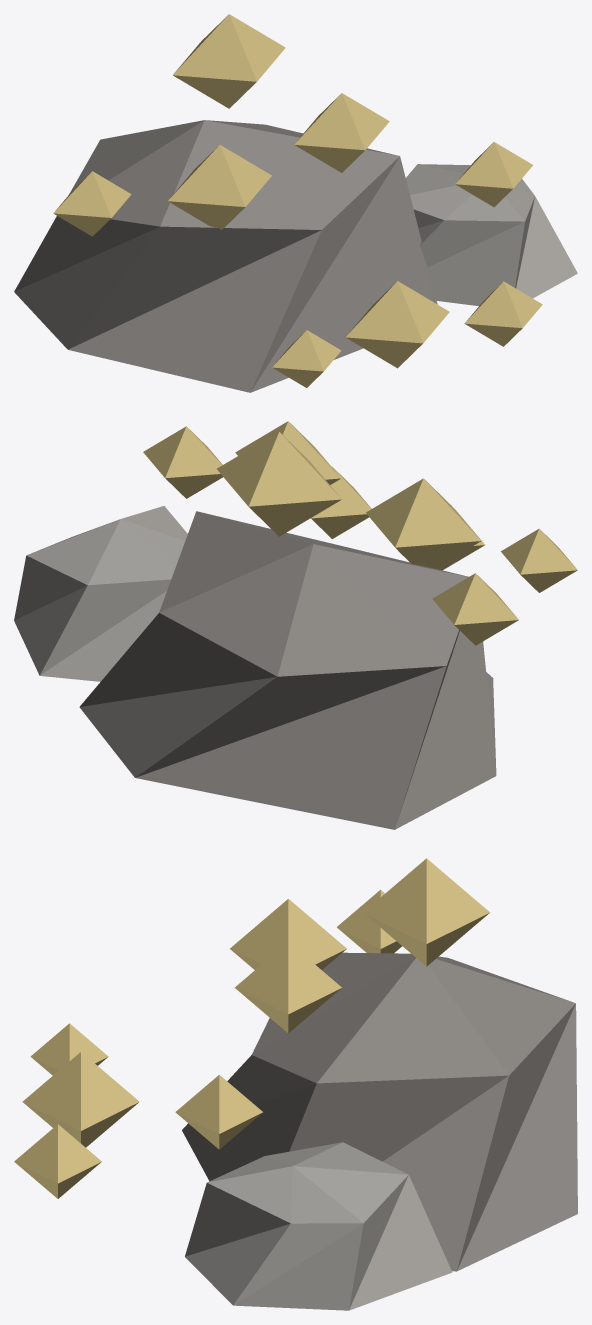
File: gold.glb
The picture shows the model from 3 angles, top to bottom: view 1: azimuth 30°, elevation 25°; view 2: azimuth 150°, elevation 25°; view 3: azimuth 270°, elevation 25°; orthographic projection. The views are drawn at different scales.
Visible parts, largest first — view 1: LOD0; view 2: LOD0; view 3: LOD0.
Boxes of the visible parts, box(x1,y1,x2,y2) form: LOD0: box(14, 14, 577, 392); LOD0: box(14, 421, 577, 829); LOD0: box(14, 858, 577, 1310).
Size of what is drawn, in the model's own units: 0.6462 by 0.3678 by 0.5876.
